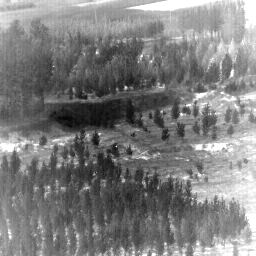aircraft: (116, 146, 118, 148)
